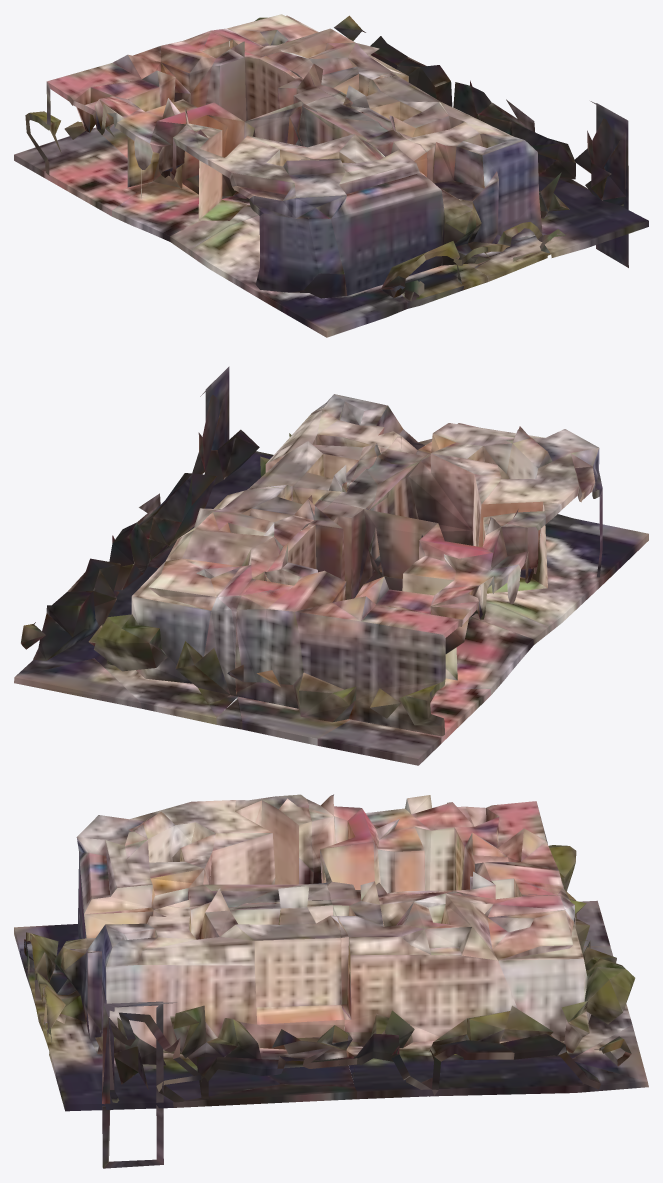
3 renders of one model, top to bottom at view 1: azimuth 30°, elevation 25°; view 2: azimuth 150°, elevation 25°; view 3: azimuth 270°, elevation 25°, orthographic. The views are drawn at different scales.
Parts seen in each view (by area): view 1: Mesh_0; view 2: Mesh_0; view 3: Mesh_0.
Boxes of the visible parts, box(x1,y1,x2,y2) form: Mesh_0: box(14, 14, 648, 337); Mesh_0: box(14, 366, 648, 765); Mesh_0: box(14, 794, 648, 1168).
Size of the model in its own units: 133 by 54.08 by 165.
Materials: 1 (1 with a texture image).
